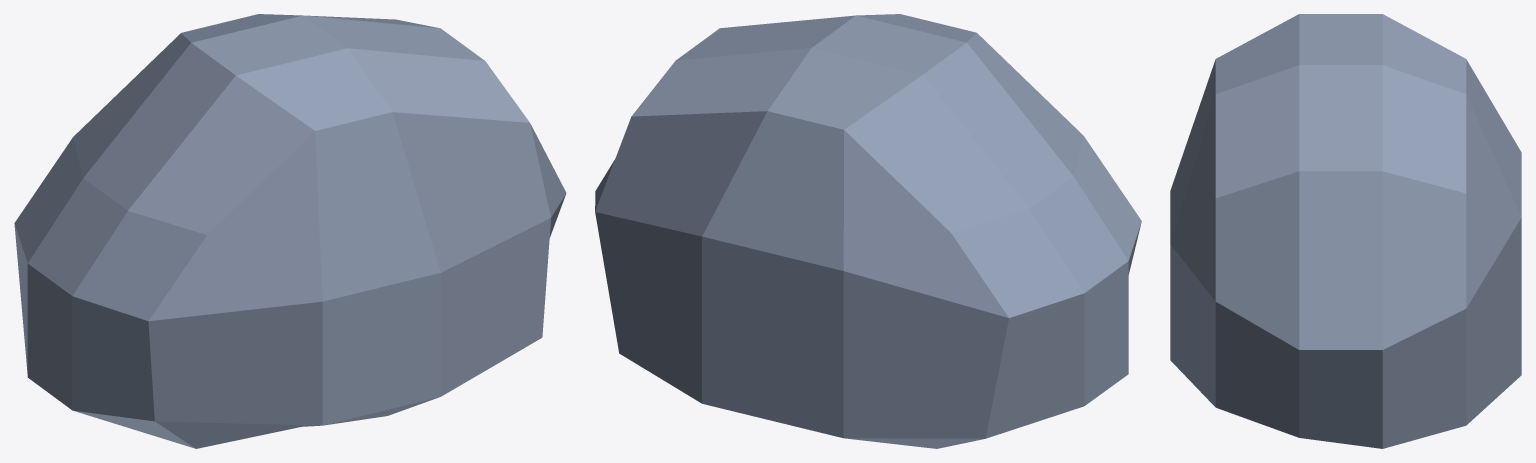
Rendered from Stone_2.fbx.
3 renders of one model, left to right at view 1: azimuth 30°, elevation 25°; view 2: azimuth 150°, elevation 25°; view 3: azimuth 270°, elevation 25°, orthographic. The views are drawn at different scales.
Visible parts, largest first — view 1: Cube.024; view 2: Cube.024; view 3: Cube.024.
Boxes of the visible parts, x1=… form: Cube.024: x1=14, y1=14, x2=566, y2=448; Cube.024: x1=595, y1=14, x2=1141, y2=448; Cube.024: x1=1170, y1=14, x2=1521, y2=448.
Size of the model in its own units: 83.86 by 55.39 by 55.19.
